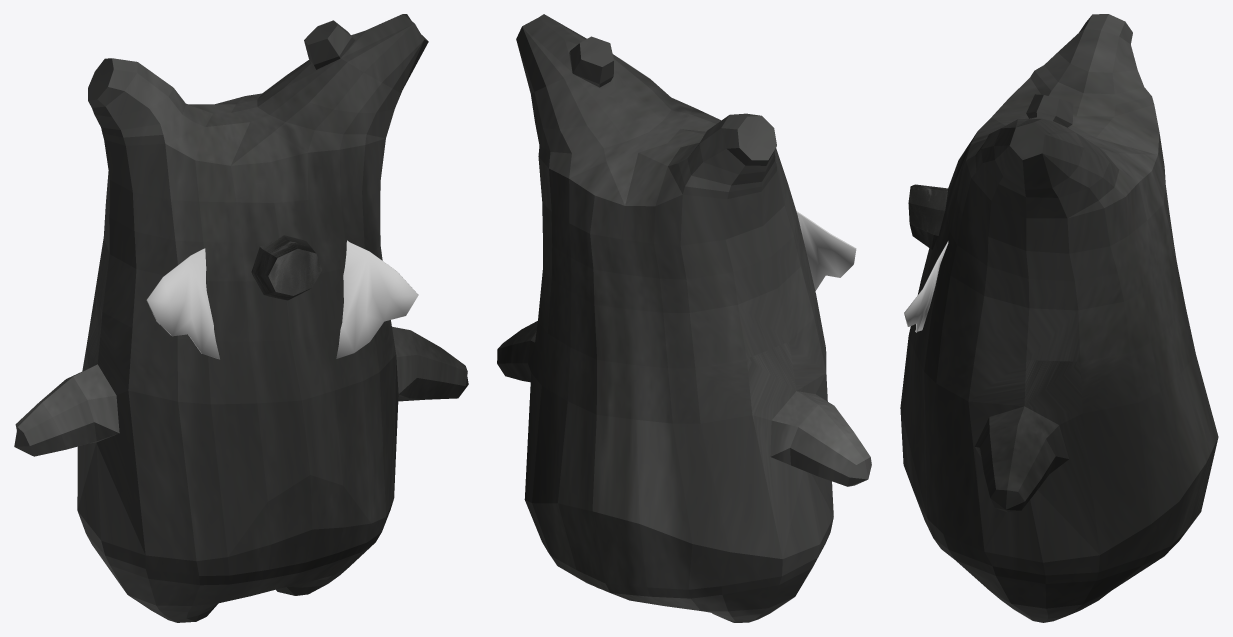
Rendered from frame_0136.obj.
3 renders of one model, left to right at view 1: azimuth 30°, elevation 25°; view 2: azimuth 150°, elevation 25°; view 3: azimuth 270°, elevation 25°, orthographic. The views are drawn at different scales.
Visible parts, largest first — view 1: korok, leaf, nose; view 2: korok, leaf; view 3: korok, nose, leaf.
Part boxes in pixels (box(x1,y1,x2,y2)): korok: box(14, 14, 468, 622); leaf: box(146, 240, 418, 359); nose: box(251, 235, 321, 300); korok: box(497, 14, 871, 622); leaf: box(796, 211, 856, 290); korok: box(900, 14, 1218, 622); nose: box(908, 184, 947, 249); leaf: box(904, 241, 948, 332).
Size of the model in its own units: 1.7 by 2.19 by 1.16.
